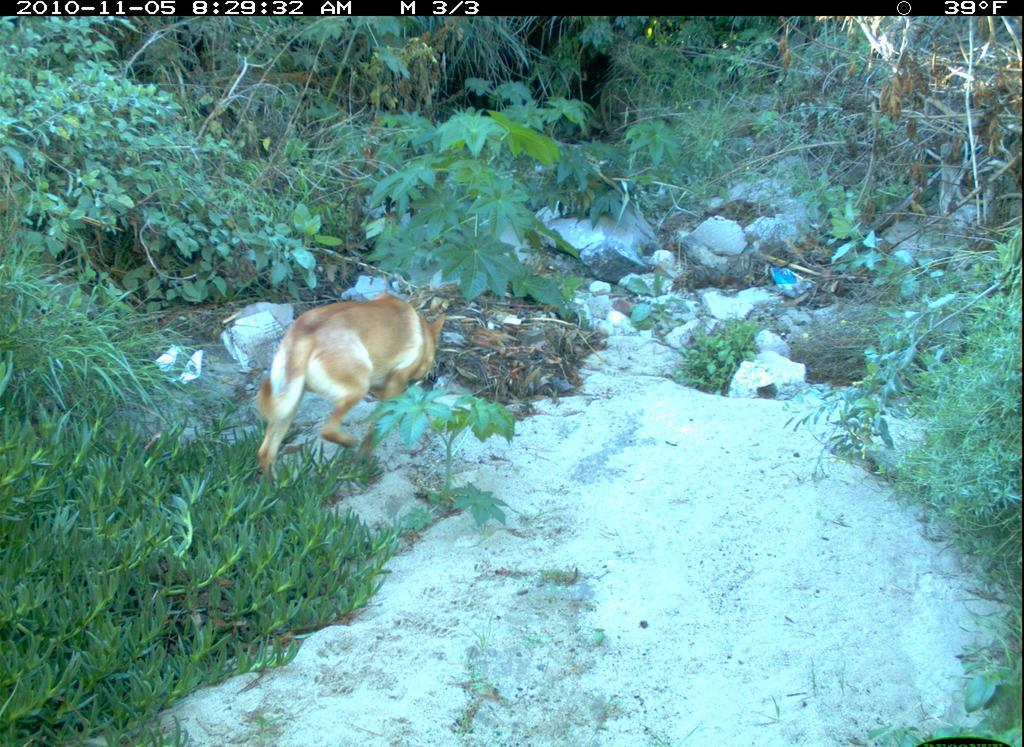dog: (251, 287, 452, 477)
